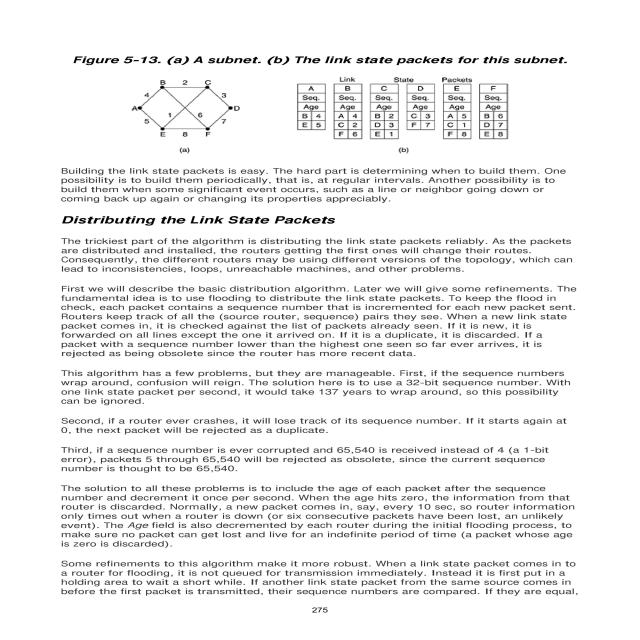diagram: (44, 36, 597, 163)
